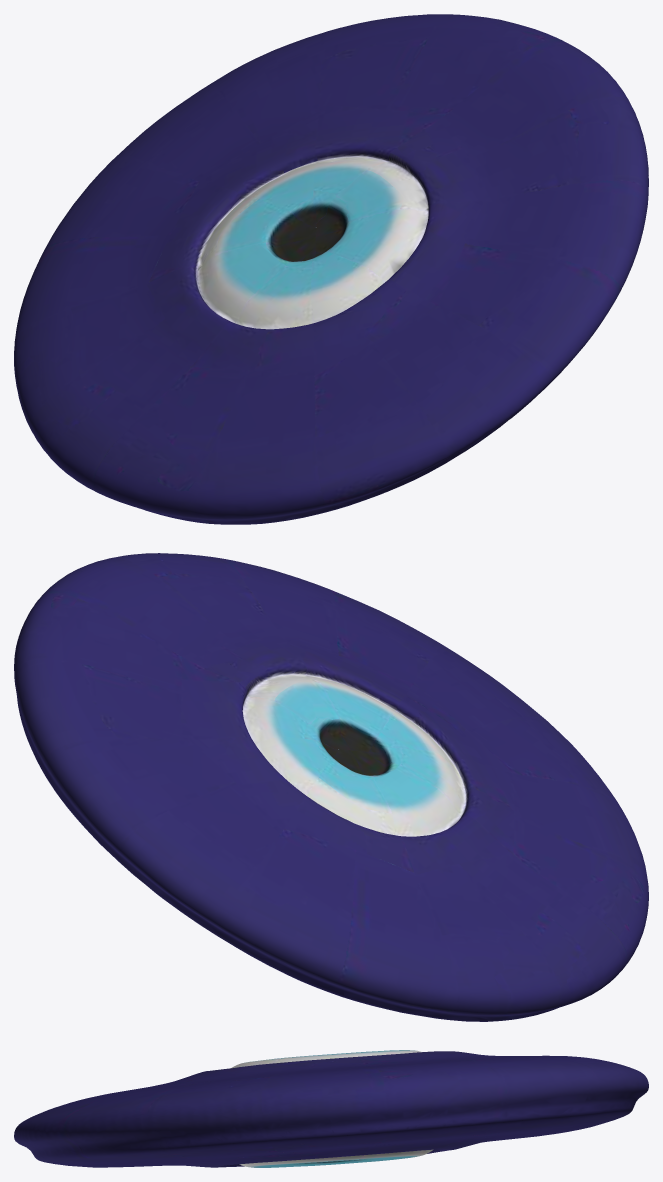
File: flateye.glb
The picture shows the model from 3 angles, top to bottom: view 1: azimuth 30°, elevation 25°; view 2: azimuth 150°, elevation 25°; view 3: azimuth 270°, elevation 25°; orthographic projection. The views are drawn at different scales.
Visible parts, largest first — view 1: tripo_node_9f9ad387-2122-4e8d-90aa-48046635a88c; view 2: tripo_node_9f9ad387-2122-4e8d-90aa-48046635a88c; view 3: tripo_node_9f9ad387-2122-4e8d-90aa-48046635a88c.
Part boxes in pixels (x1,y1,x2,y2): tripo_node_9f9ad387-2122-4e8d-90aa-48046635a88c: (14,14,648,524); tripo_node_9f9ad387-2122-4e8d-90aa-48046635a88c: (14,553,648,1021); tripo_node_9f9ad387-2122-4e8d-90aa-48046635a88c: (14,1050,648,1167).
Bounding box in the file's own units: 0.9167 × 0.49 × 0.9796.
1 material, 1 textured.
